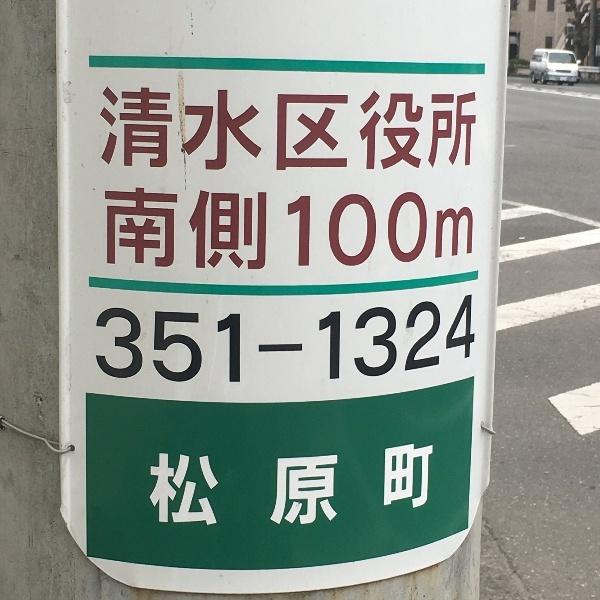text: (161, 438, 176, 540), (177, 438, 192, 540), (193, 438, 208, 540), (209, 438, 224, 540), (225, 438, 240, 540), (241, 438, 256, 540), (257, 438, 272, 540), (273, 438, 288, 540), (289, 438, 304, 540), (305, 438, 320, 540), (321, 438, 336, 540), (337, 438, 352, 540), (353, 438, 368, 540), (369, 438, 384, 540), (385, 438, 400, 540), (401, 438, 416, 540), (417, 438, 432, 540), (97, 292, 112, 392), (113, 292, 128, 392), (129, 292, 144, 392), (145, 292, 160, 392), (161, 292, 176, 392), (177, 292, 192, 392), (193, 292, 208, 392), (209, 292, 224, 392), (225, 292, 240, 392), (241, 292, 256, 392), (257, 292, 272, 392), (273, 292, 288, 392), (289, 292, 304, 392), (305, 292, 320, 392), (321, 292, 336, 392), (337, 292, 352, 392), (353, 292, 368, 392), (369, 292, 384, 392), (385, 292, 400, 392), (401, 292, 416, 392), (417, 292, 432, 392), (433, 292, 448, 392), (449, 292, 464, 392), (465, 292, 479, 392), (113, 183, 128, 271), (129, 183, 144, 271), (145, 183, 160, 271), (161, 183, 176, 271), (177, 183, 192, 271), (193, 183, 208, 271), (209, 183, 224, 271), (225, 183, 240, 271), (241, 183, 256, 271), (257, 183, 272, 271), (273, 183, 288, 271), (289, 183, 304, 271), (305, 183, 320, 271), (321, 183, 336, 271), (337, 183, 352, 271), (353, 183, 368, 271), (369, 183, 384, 271), (385, 183, 400, 271), (401, 183, 416, 271), (417, 183, 432, 271), (433, 183, 448, 271), (449, 183, 464, 271), (113, 86, 128, 173), (129, 86, 144, 173), (145, 86, 160, 173), (161, 86, 176, 173), (177, 86, 192, 173), (193, 86, 208, 173), (209, 86, 224, 173), (225, 86, 240, 173), (241, 86, 256, 173), (257, 86, 272, 173), (273, 86, 288, 173), (289, 86, 304, 173), (305, 86, 320, 173), (321, 86, 336, 173), (337, 86, 352, 173), (353, 86, 368, 173), (369, 86, 384, 173), (385, 86, 400, 173), (401, 86, 416, 173), (417, 86, 432, 173), (433, 86, 448, 173), (449, 86, 464, 173), (465, 86, 480, 173), (149, 438, 160, 540), (100, 86, 112, 173), (465, 183, 476, 271), (105, 183, 112, 271), (433, 438, 435, 540), (95, 292, 96, 392)
